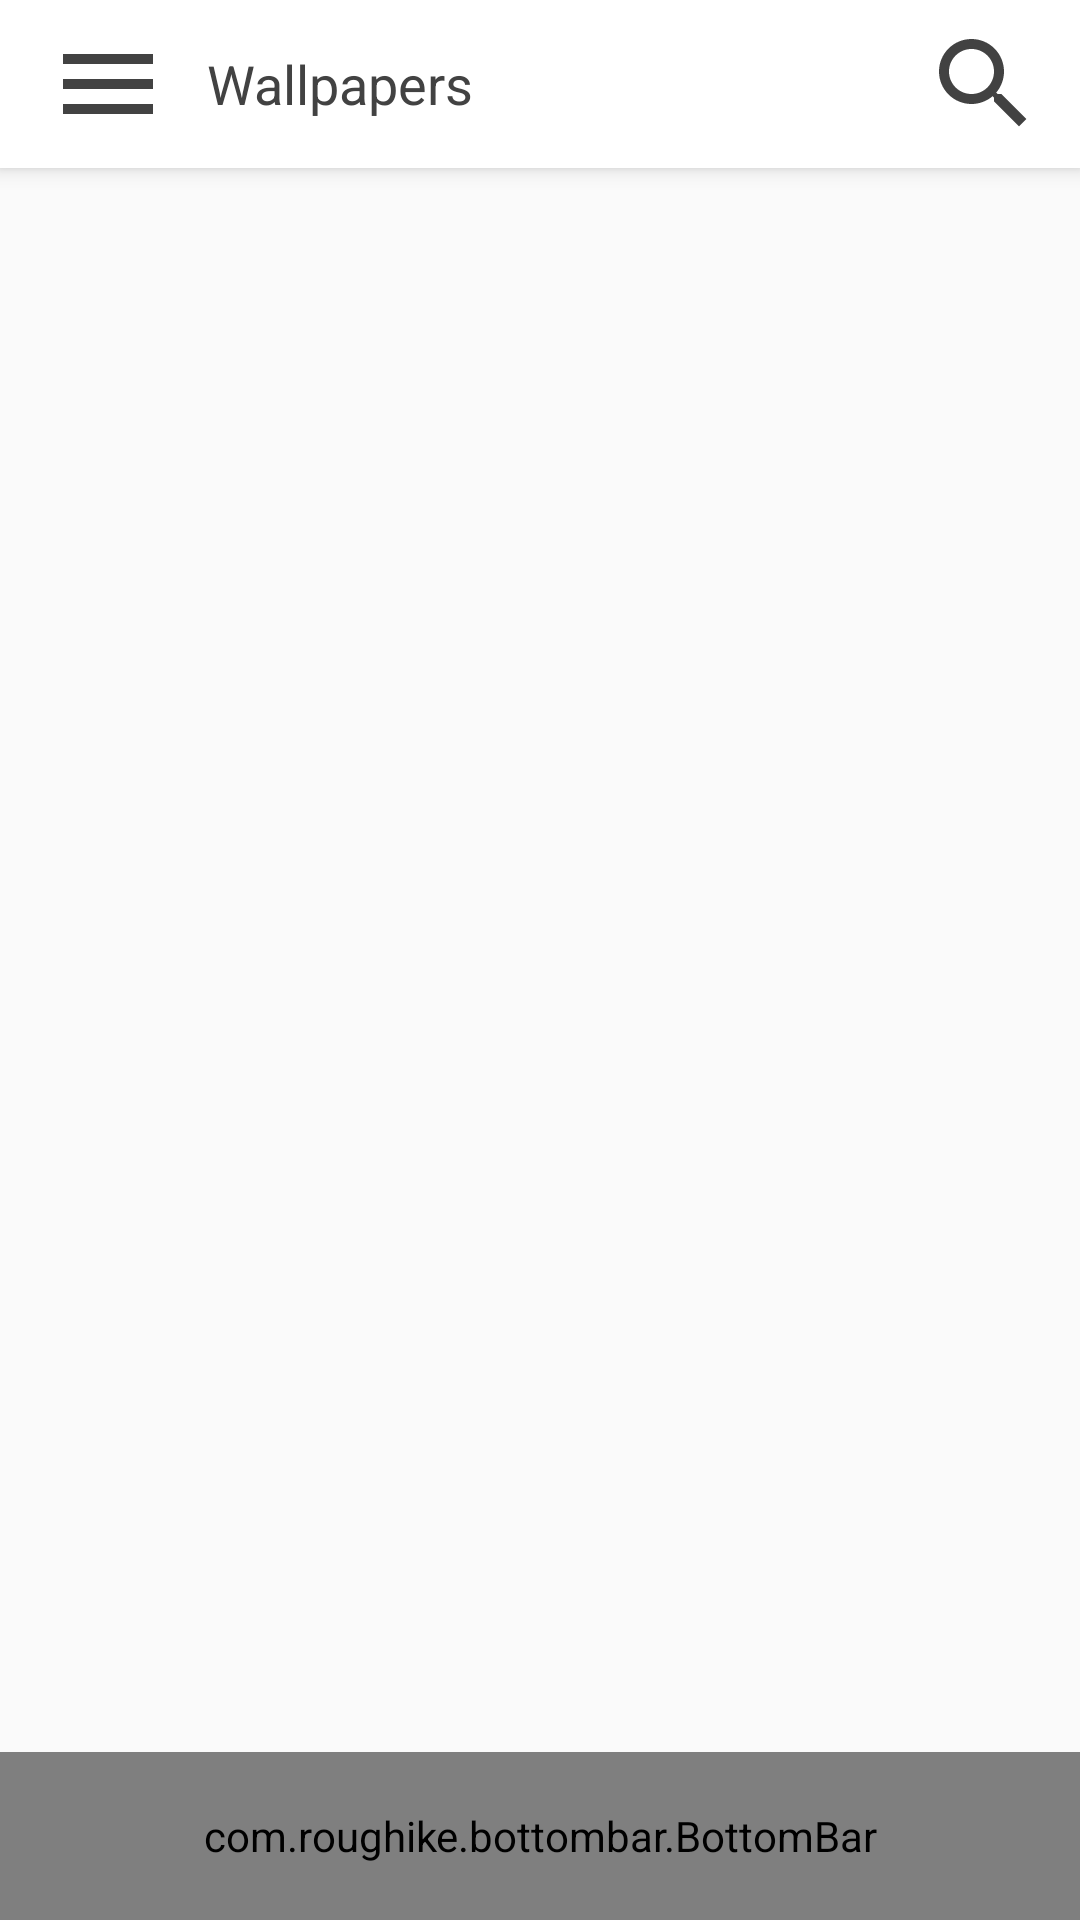

Icon click points for this 1080 × 1920 phone screenshot, format (x,y):
menu: (108,84)
